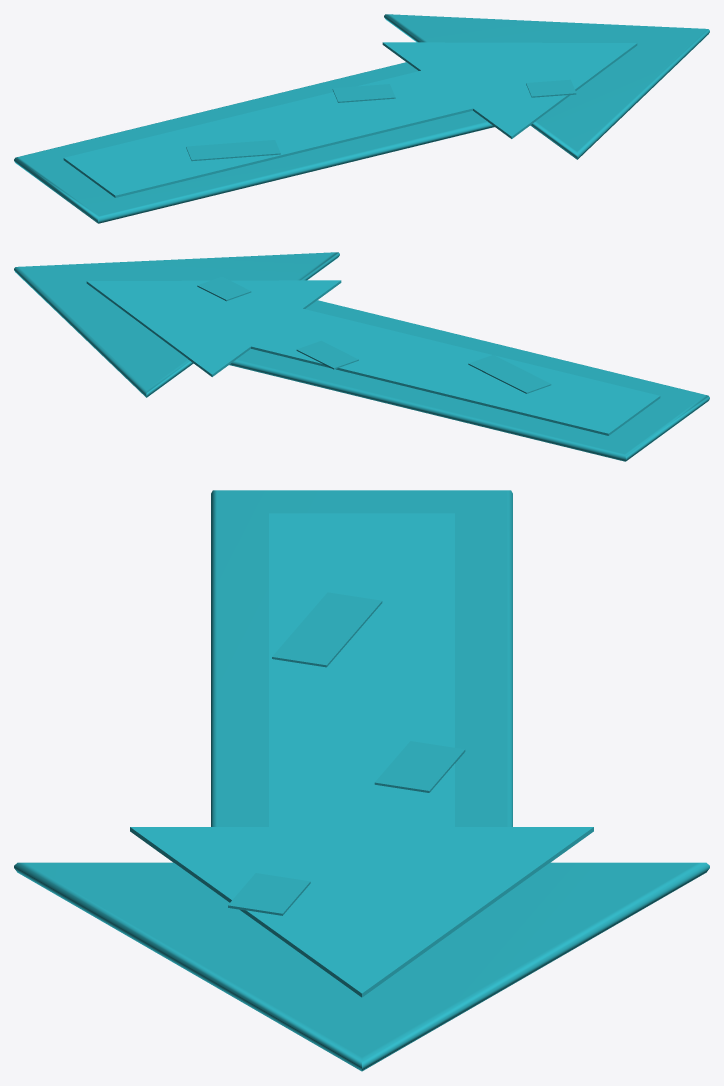
Rendered from SM_Deco_FloorArrow_Cyan.fbx.
The picture shows the model from 3 angles, top to bottom: view 1: azimuth 30°, elevation 25°; view 2: azimuth 150°, elevation 25°; view 3: azimuth 270°, elevation 25°; orthographic projection. The views are drawn at different scales.
Parts seen in each view (by area): view 1: SM_Deco_FloorArrow_Cyan; view 2: SM_Deco_FloorArrow_Cyan; view 3: SM_Deco_FloorArrow_Cyan.
Boxes of the visible parts, x1,y1,x2,y2 form: SM_Deco_FloorArrow_Cyan: [14, 14, 709, 223]; SM_Deco_FloorArrow_Cyan: [14, 252, 709, 461]; SM_Deco_FloorArrow_Cyan: [14, 490, 709, 1071].
Size of the model in its own units: 117 by 1.84 by 60.03.
